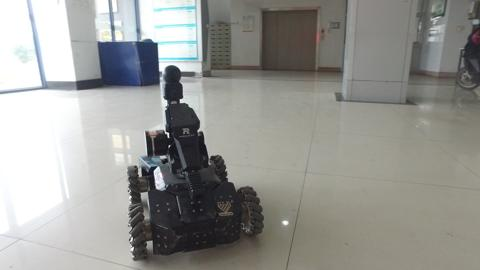chariot: (102, 59, 276, 270)
